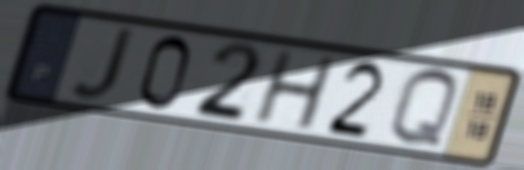0: (137, 33, 191, 112)
2: (193, 40, 267, 126), (324, 59, 388, 141)
H: (249, 48, 340, 134)
J: (67, 26, 139, 104)
Q: (386, 65, 461, 152)
